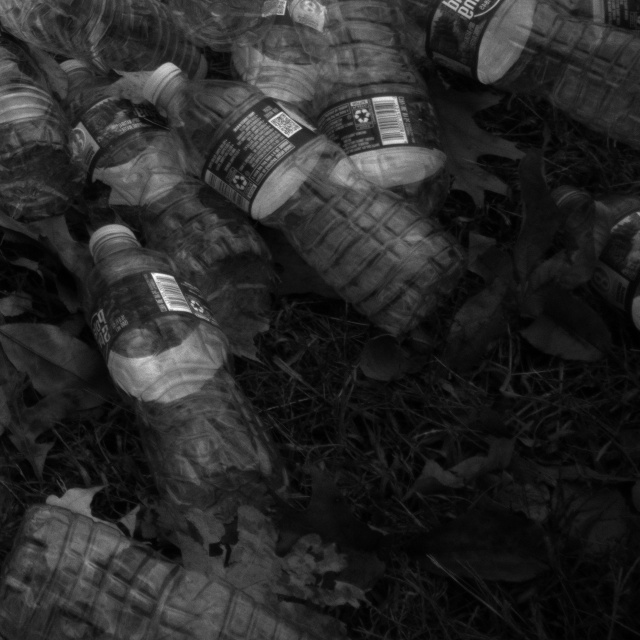bottle: (152, 55, 465, 340), (83, 212, 284, 524), (50, 54, 268, 322), (0, 510, 339, 640), (278, 0, 460, 226), (389, 0, 639, 162), (0, 36, 75, 231)
